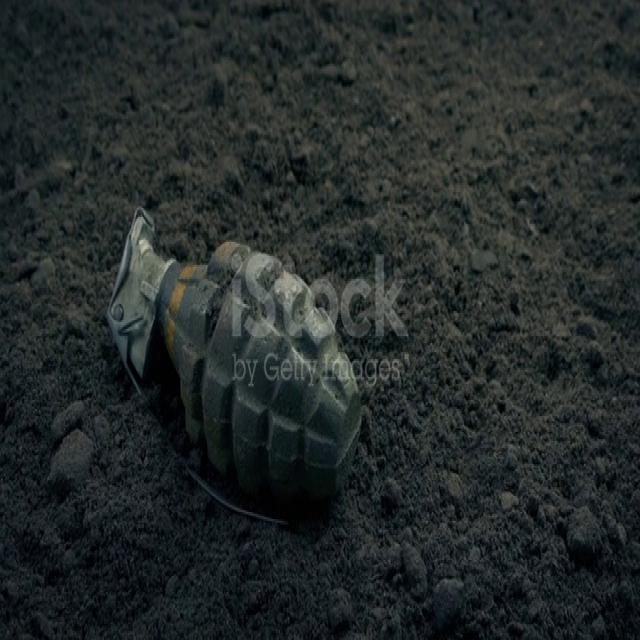grenade: (104, 212, 366, 528)
